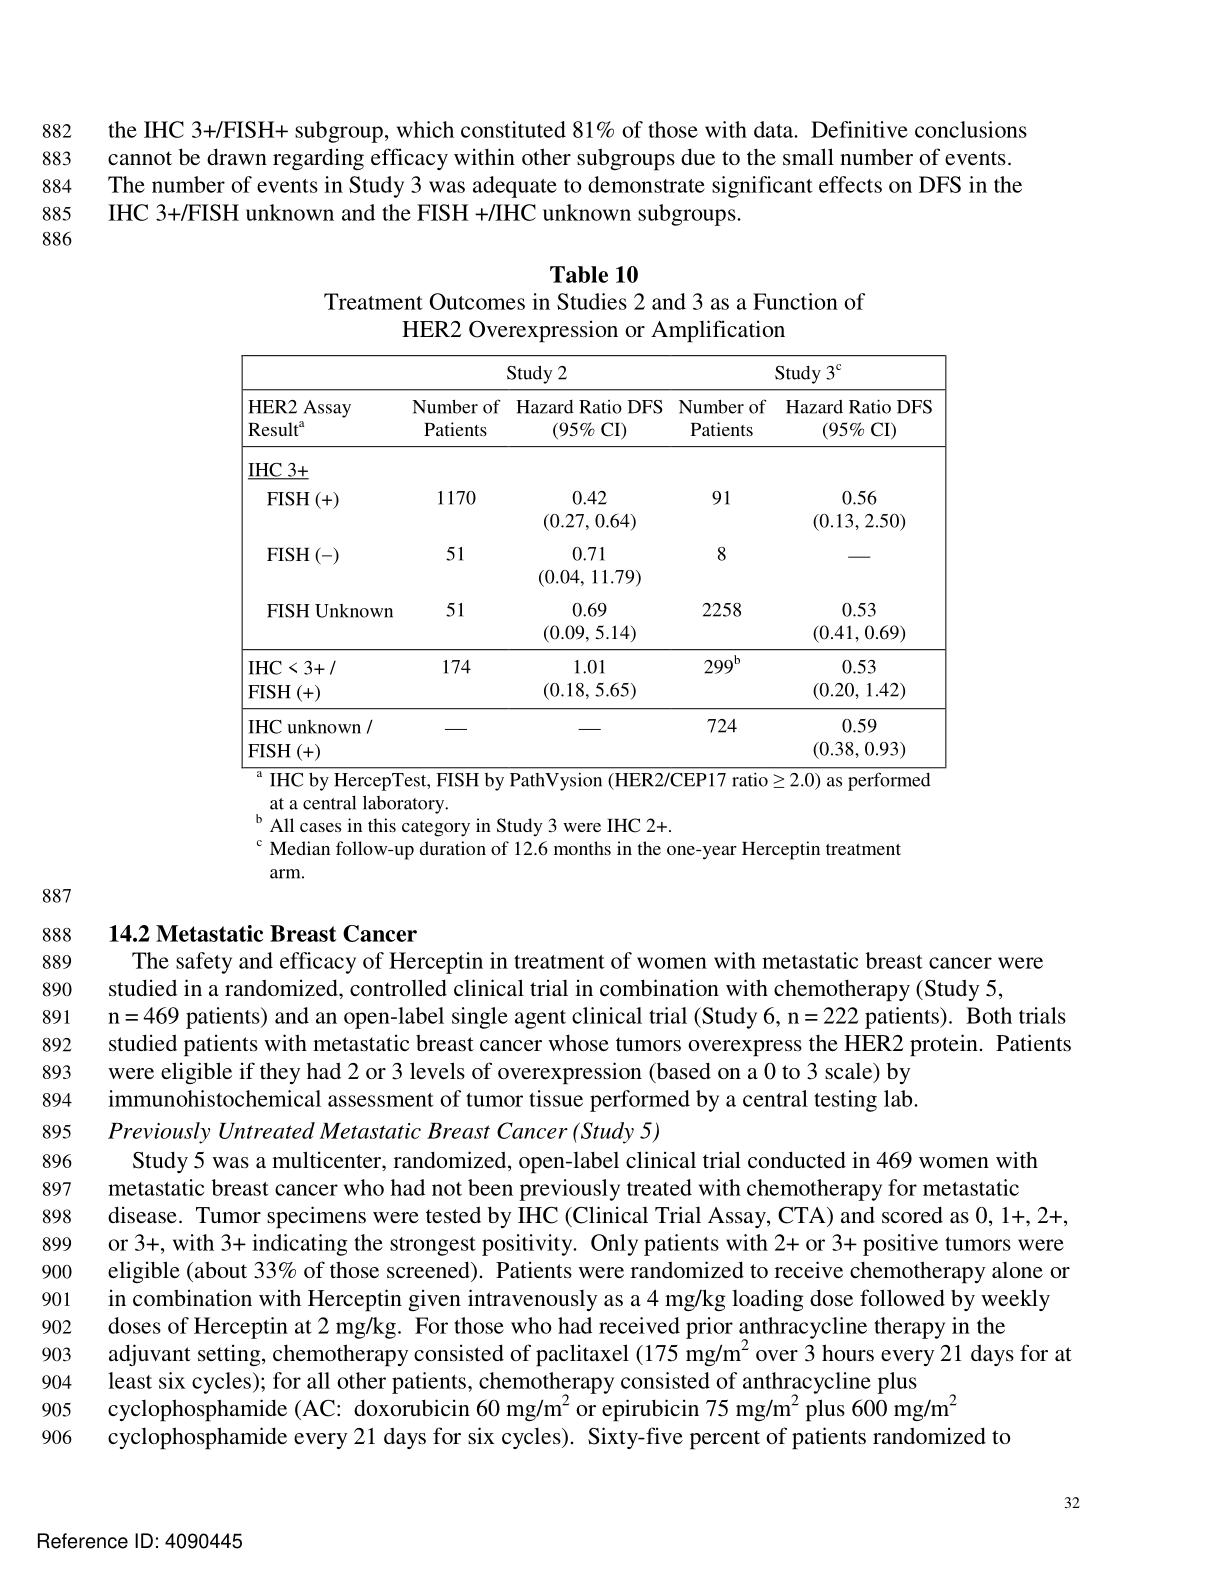partial_lined_merged_cells: (240, 354, 950, 771)
